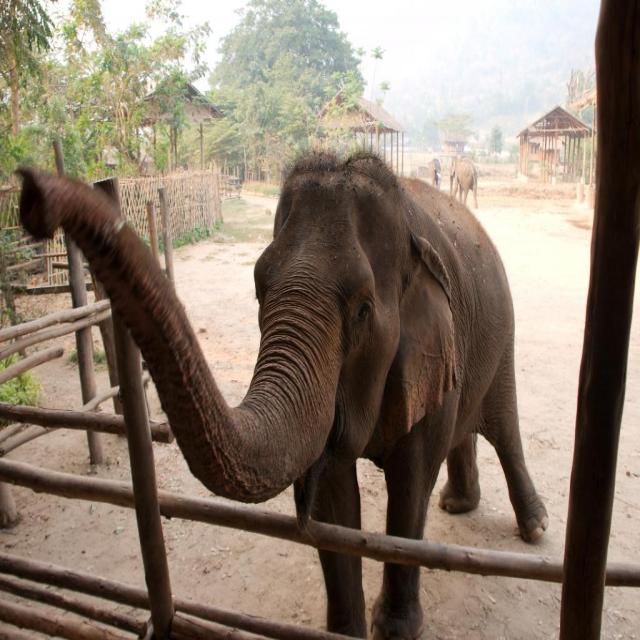elephant: (54, 140, 534, 614), (450, 155, 478, 208), (424, 157, 446, 191)
